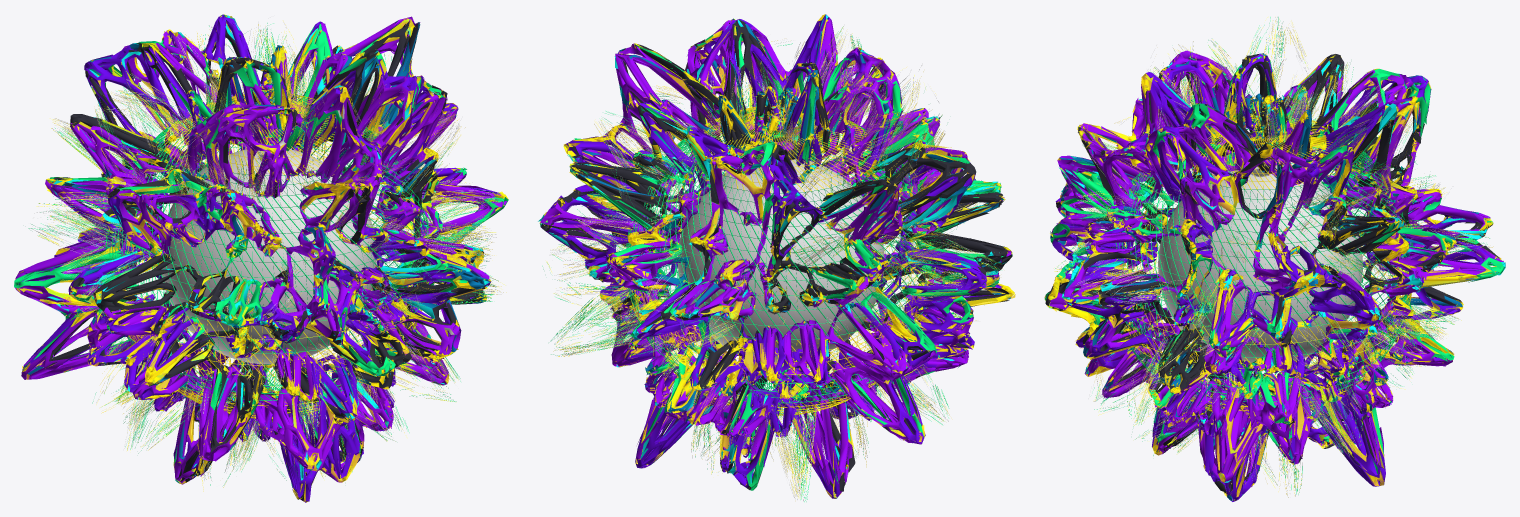
3 views of the same model, side by side, from view 1: azimuth 30°, elevation 25°; view 2: azimuth 150°, elevation 25°; view 3: azimuth 270°, elevation 25° (orthographic). The views are drawn at different scales.
Parts seen in each view (by area): view 1: Geode; view 2: Geode; view 3: Geode.
Boxes of the visible parts, x1,y1,x2,y2 form: Geode: (14,14,508,502); Geode: (538,14,1015,501); Geode: (1044,16,1505,501).
Size of the model in its own units: 4.57 by 4.39 by 4.5.
